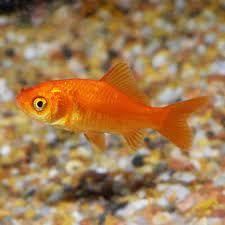Gold Fish: (14, 58, 213, 158)
